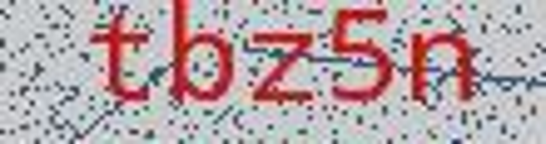5: (325, 4, 396, 108)
b: (160, 2, 238, 112)
n: (407, 28, 489, 111)
t: (84, 7, 157, 109)
z: (244, 20, 321, 117)
